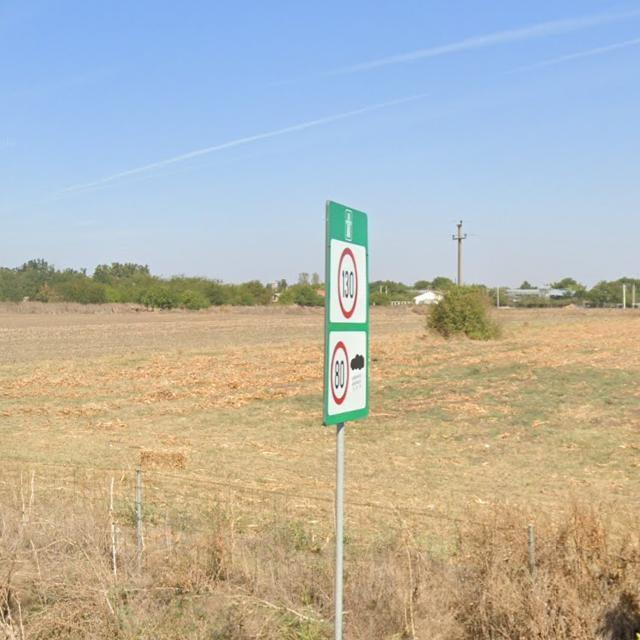forb_speed_over_80: (330, 341, 350, 405)
